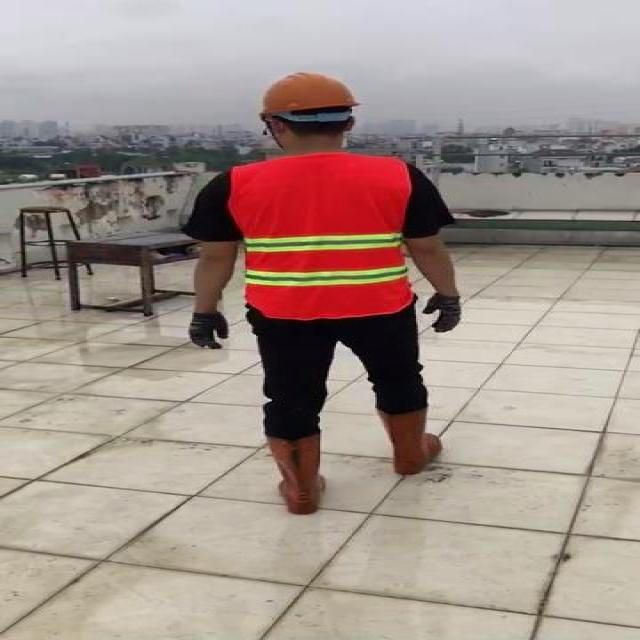boots: (375, 402, 446, 473), (267, 434, 325, 519)
hand_glove: (188, 310, 226, 351), (427, 293, 464, 333)
head_helmet: (262, 68, 360, 122)
person: (181, 74, 480, 522)
vest: (231, 149, 413, 321)
